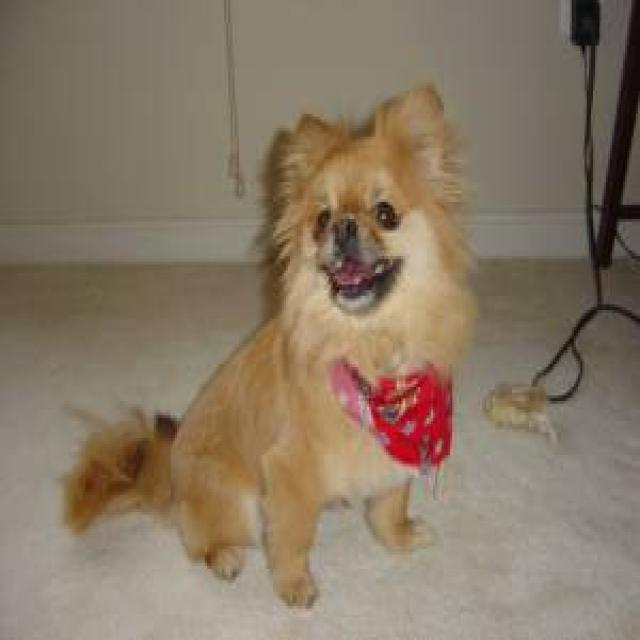dog-pomeranian: (55, 82, 463, 620)
